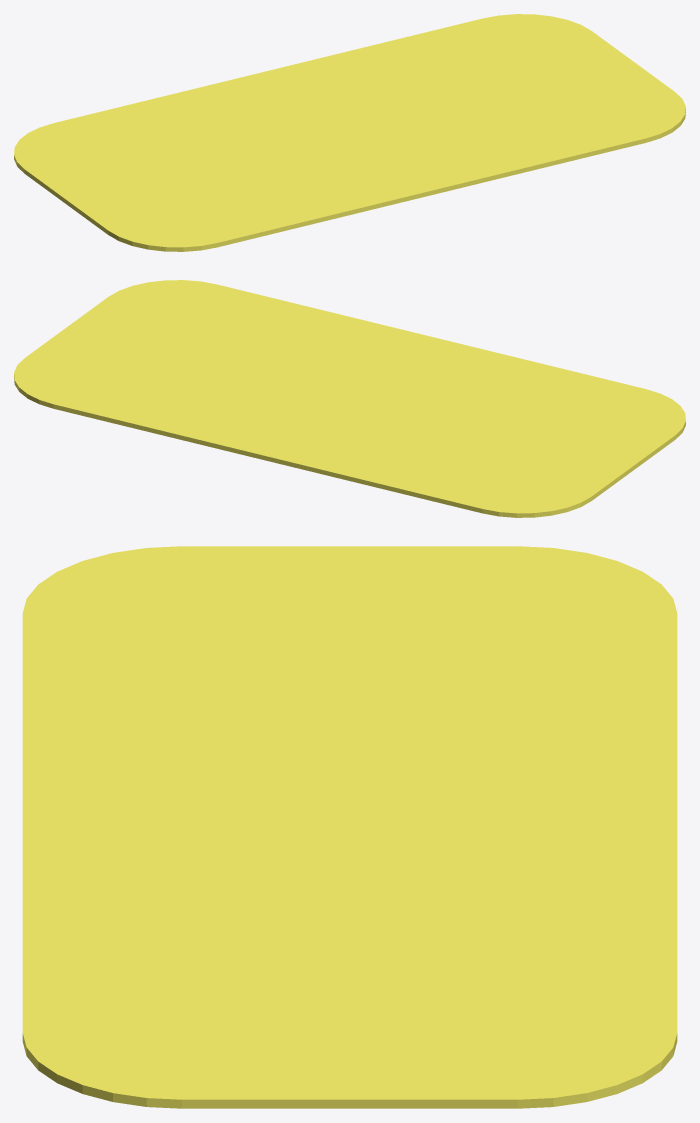
Rendered from FoodCarpet.fbx.
The picture shows the model from 3 angles, top to bottom: view 1: azimuth 30°, elevation 25°; view 2: azimuth 150°, elevation 25°; view 3: azimuth 270°, elevation 25°; orthographic projection. The views are drawn at different scales.
Visible parts, largest first — view 1: FoodCarpet; view 2: FoodCarpet; view 3: FoodCarpet.
Part boxes in pixels (x1,y1,x2,y2): FoodCarpet: (14, 14, 685, 251); FoodCarpet: (14, 280, 685, 517); FoodCarpet: (22, 546, 677, 1108).
Size of the model in its own units: 4 by 2 by 0.0303.
